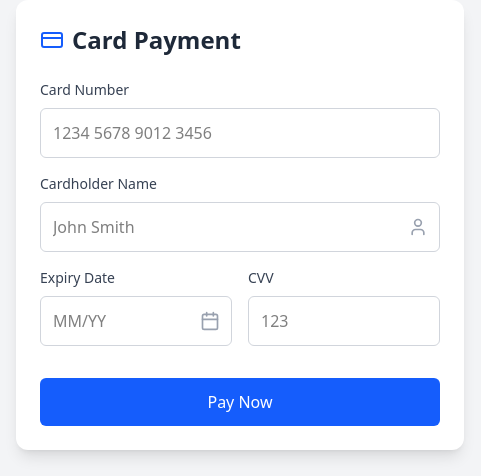
Scenario: CreditCardValidator › allows input for expiry date and formats it
Type "1225" into the field labelled "Expiry Date". click: (136, 321)
box: 40,296 -> 232,346
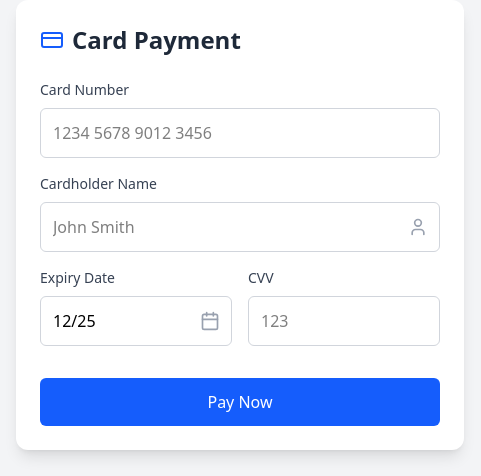
Check: the field labelled "Expiry Date" holds "12/25", box 40,296 -> 232,346
